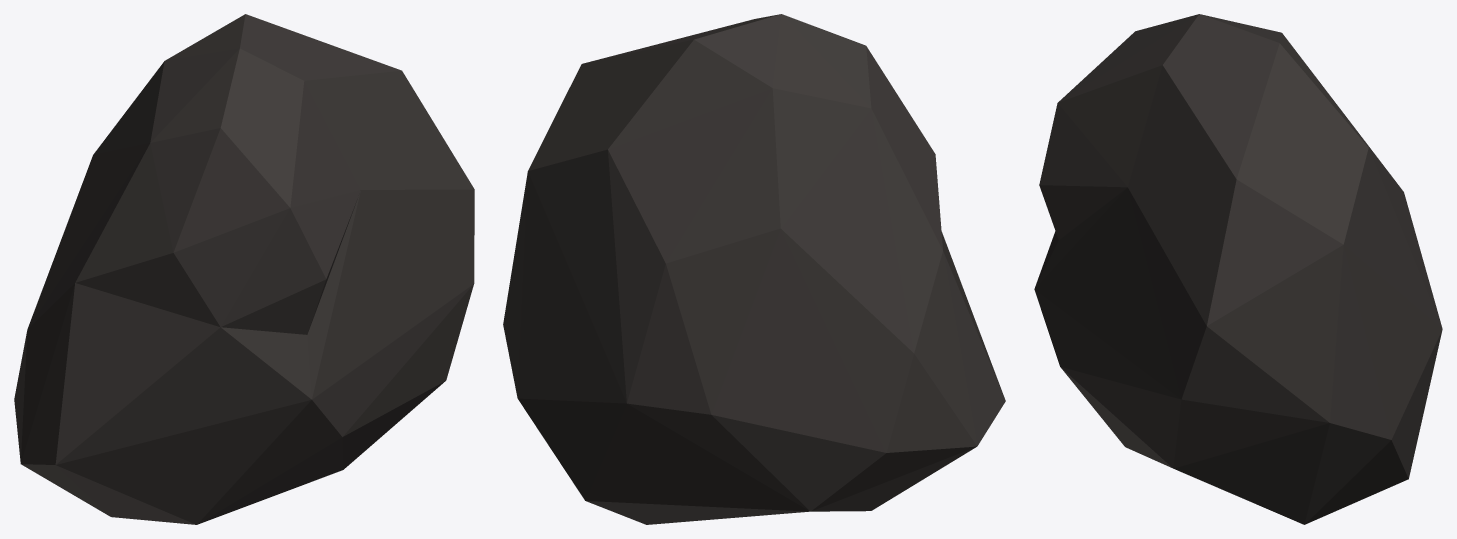
The model's file is Rock_3.fbx.
The picture shows the model from 3 angles, left to right: view 1: azimuth 30°, elevation 25°; view 2: azimuth 150°, elevation 25°; view 3: azimuth 270°, elevation 25°; orthographic projection. The views are drawn at different scales.
Visible parts, largest first — view 1: Group6327; view 2: Group6327; view 3: Group6327.
Part boxes in pixels (<box>): Group6327: <box>14,14,474,524</box>; Group6327: <box>503,14,1005,524</box>; Group6327: <box>1034,14,1442,524</box>.
Size of the model in its own units: 6.96 by 7.07 by 5.63.
